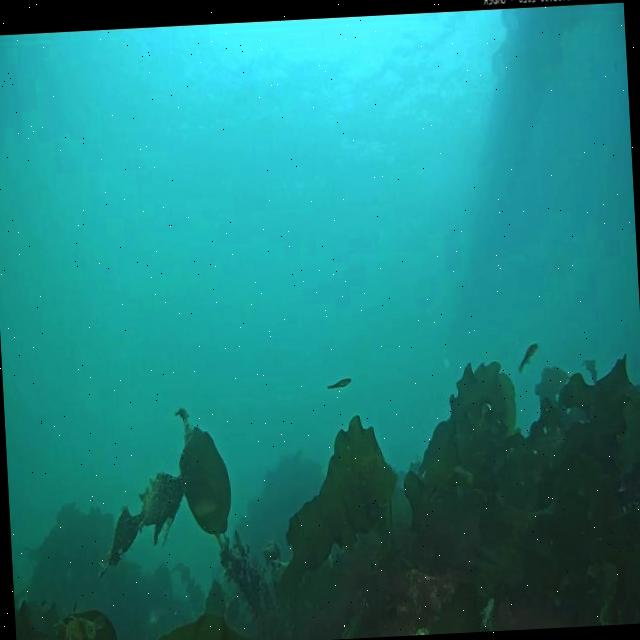fish: (516, 338, 540, 374), (326, 379, 352, 390)
